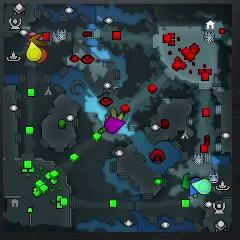p1: (189, 176, 202, 197)
p2: (192, 178, 213, 196)
p3: (105, 116, 125, 134)
p4: (26, 41, 42, 62)
p5: (37, 46, 48, 64)
x1: (27, 32, 44, 45)
x2: (105, 107, 124, 121)
x4: (180, 172, 193, 190)
x5: (30, 33, 47, 48)
